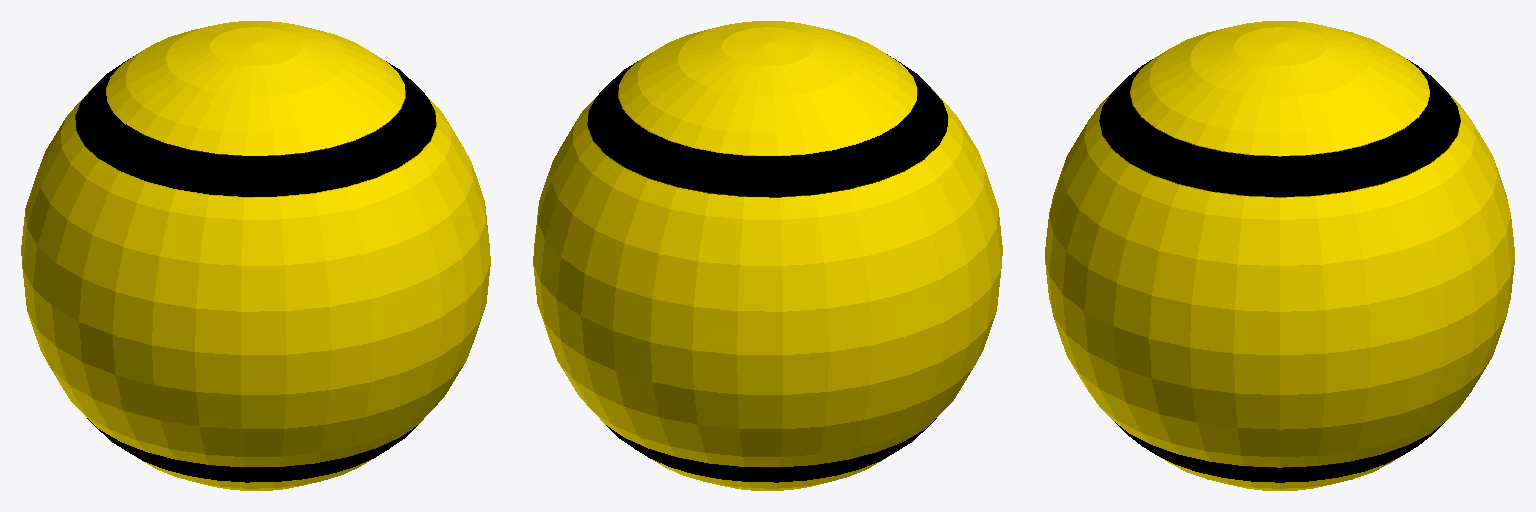
3 renders of one model, left to right at view 1: azimuth 30°, elevation 25°; view 2: azimuth 150°, elevation 25°; view 3: azimuth 270°, elevation 25°, orthographic.
Parts seen in each view (by area): view 1: Sphere_Sphere.001; view 2: Sphere_Sphere.001; view 3: Sphere_Sphere.001.
Part boxes in pixels (x1,y1,x2,y2): Sphere_Sphere.001: (21,21,490,490); Sphere_Sphere.001: (533,21,1002,490); Sphere_Sphere.001: (1045,21,1514,490).
Size of the model in its own units: 2 by 2 by 2.
Materials: 1 (1 with a texture image).